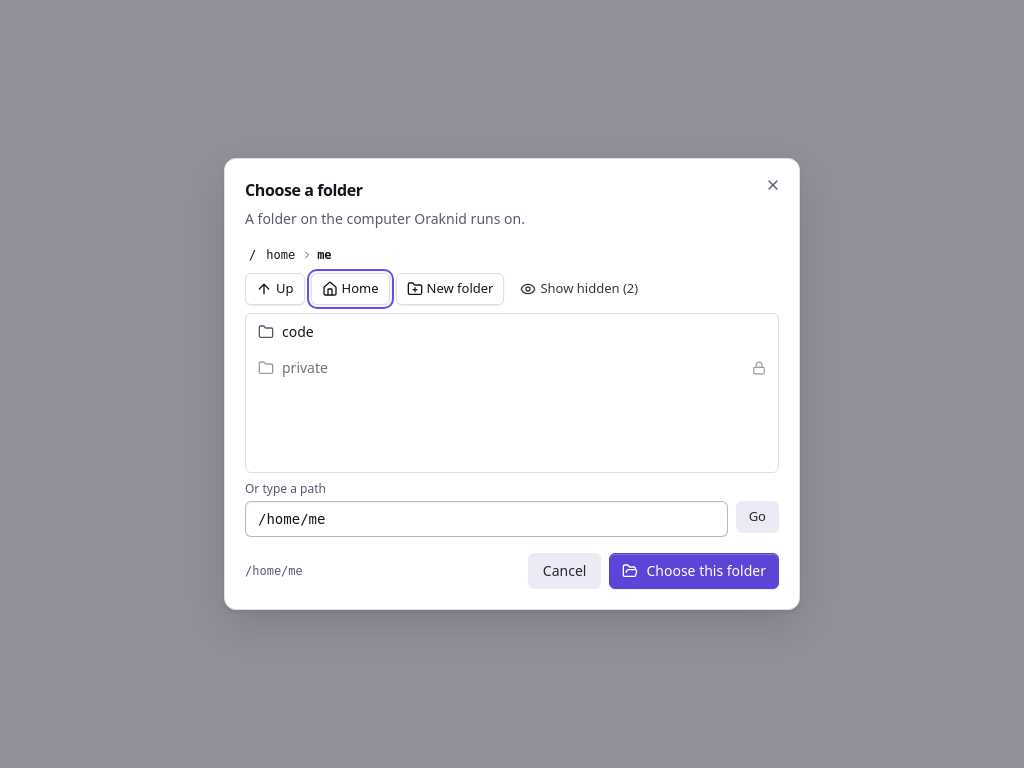
Test: the folder picker › takes a typed path, and says one that isn't there
The width and height of the screenshot is (1024, 768).
Expected: the button "code" is shown, x1=246 y1=314 x2=778 y2=350
Replace the text in the field labelled "Or type a path" with "/nowhere" at (486, 519), box x1=245 y1=501 x2=728 y2=537
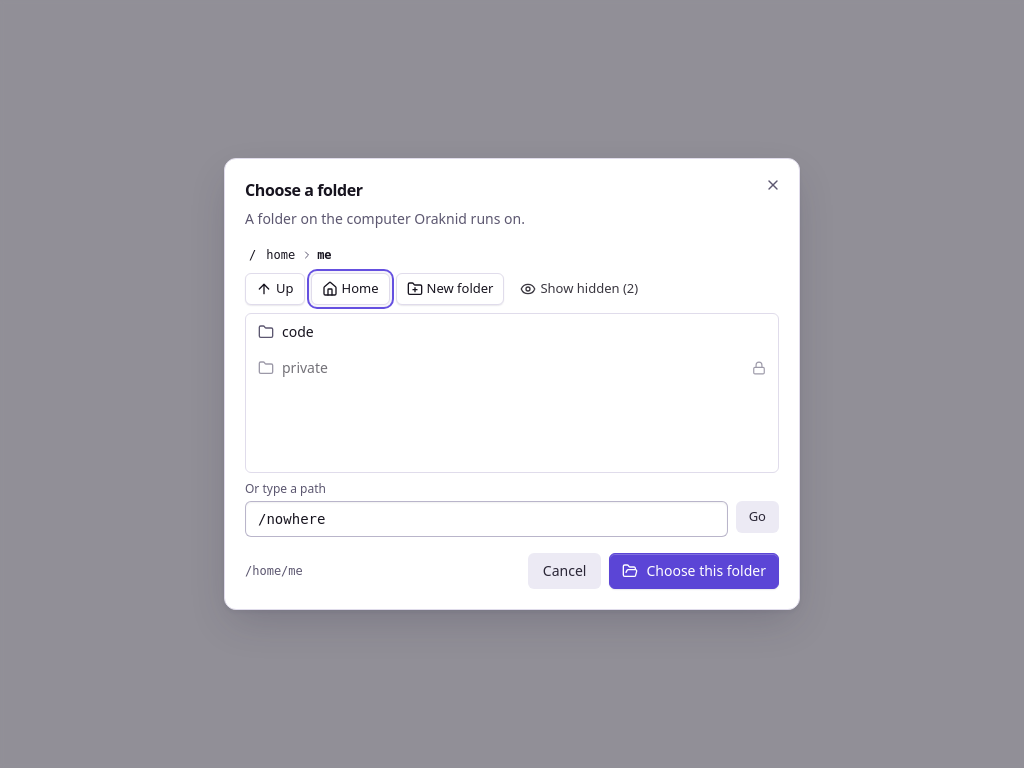
Click the button "Go" at (757, 517), box x1=736 y1=501 x2=779 y2=533
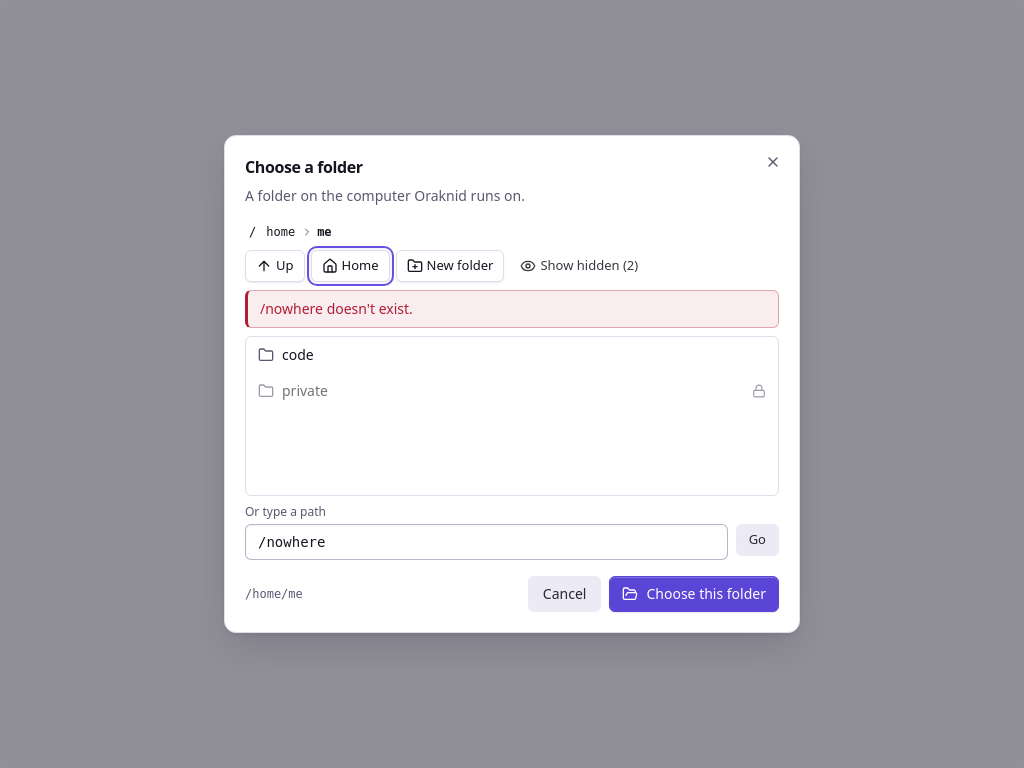
Now the message reads "/nowhere doesn't exist.", box x1=260 y1=299 x2=413 y2=318
Replace the text in the field labelled "Or type a path" with "/home/me/code" at (486, 542), box x1=245 y1=524 x2=728 y2=560
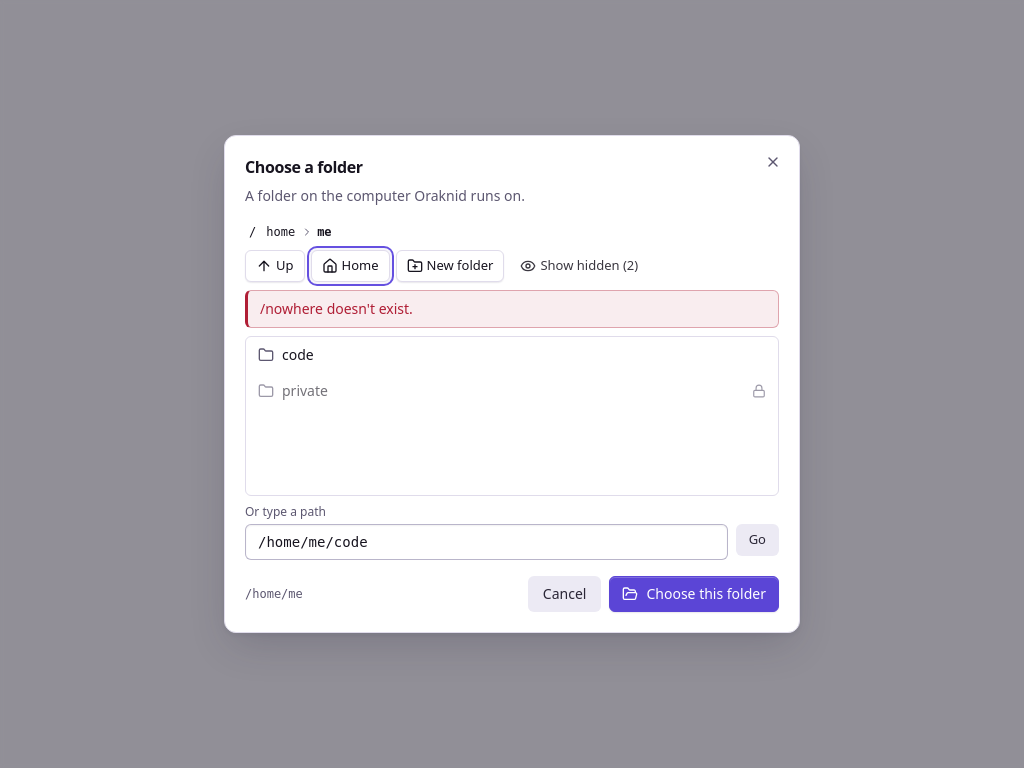
Click the button "Go" at (757, 540), box x1=736 y1=524 x2=779 y2=556
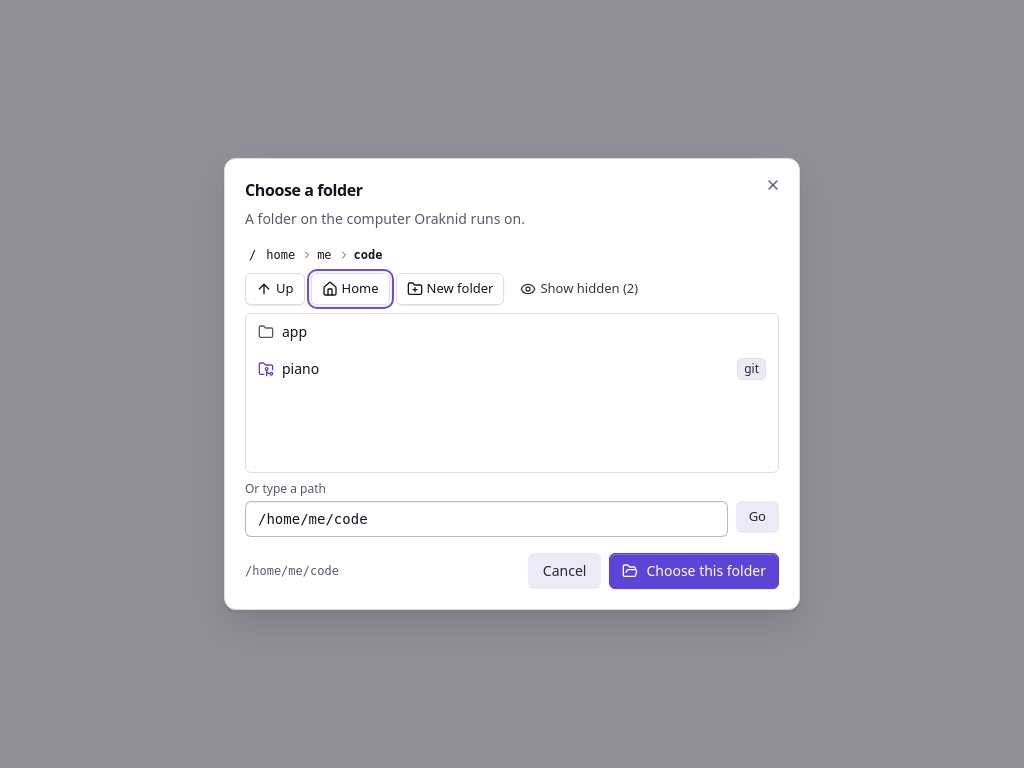
Now the button "piano git" is shown, box x1=246 y1=350 x2=778 y2=388
Now the message "/nowhere doesn't exist." is gone
